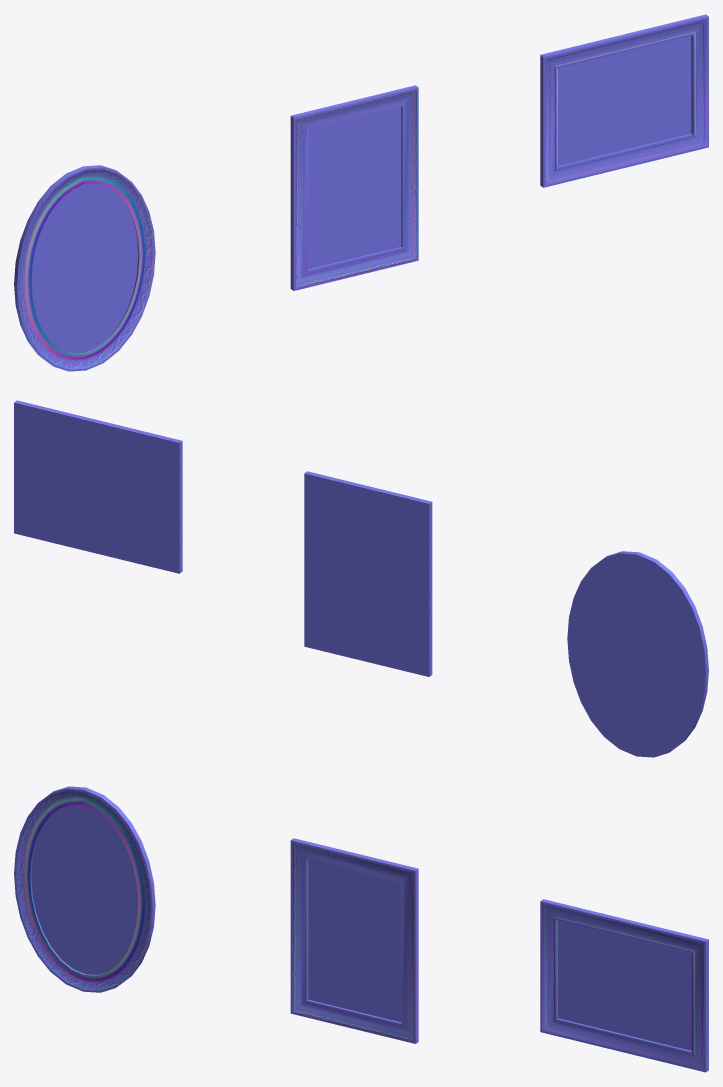
File: pictures.FBX
3 renders of one model, top to bottom at view 1: azimuth 30°, elevation 25°; view 2: azimuth 150°, elevation 25°; view 3: azimuth 330°, elevation 25°, orthographic.
Visible parts, largest first — view 1: Rectangle005, Ellipse002, Rectangle006; view 2: Rectangle005, Ellipse002, Rectangle006; view 3: Rectangle005, Ellipse002, Rectangle006.
Part boxes in pixels (left/top/right/bottom): Rectangle005: left=290, top=85, right=418, bottom=290; Ellipse002: left=14, top=165, right=155, bottom=371; Rectangle006: left=540, top=14, right=708, bottom=187; Rectangle005: left=304, top=471, right=432, bottom=676; Ellipse002: left=567, top=551, right=708, bottom=757; Rectangle006: left=14, top=400, right=182, bottom=573; Rectangle005: left=290, top=838, right=418, bottom=1043; Ellipse002: left=14, top=786, right=155, bottom=992; Rectangle006: left=540, top=899, right=708, bottom=1072.
Size of the model in its own units: 256 by 71.48 by 1.95.
